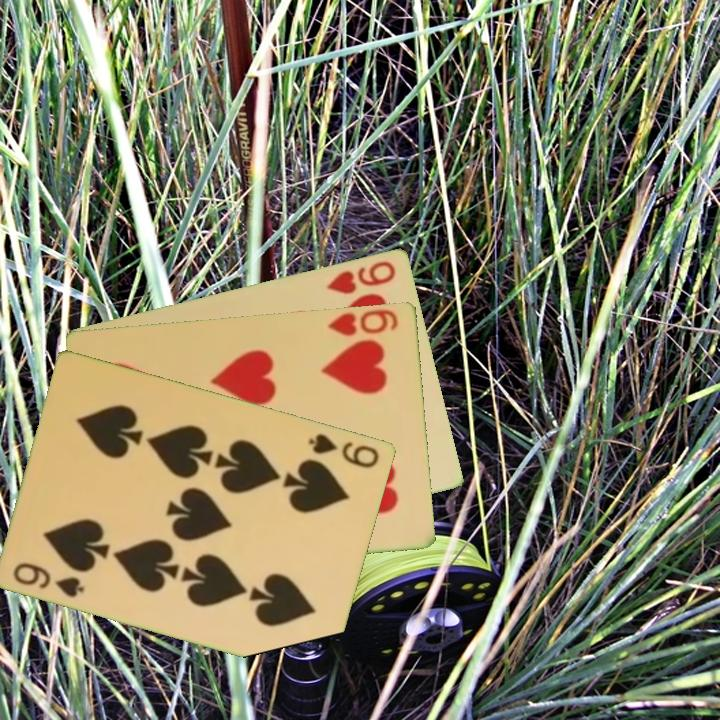6h: (324, 306, 402, 339)
9h: (323, 257, 399, 297)
9s: (305, 429, 383, 471), (10, 558, 88, 600)
